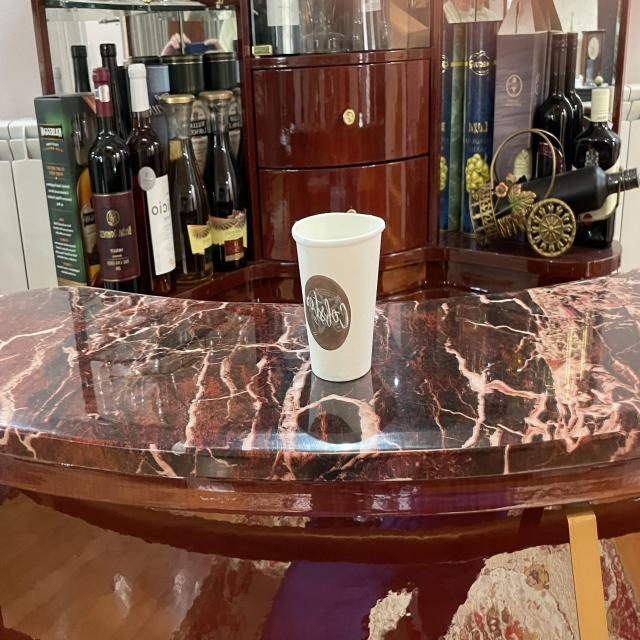medium: (292, 208, 386, 385)
